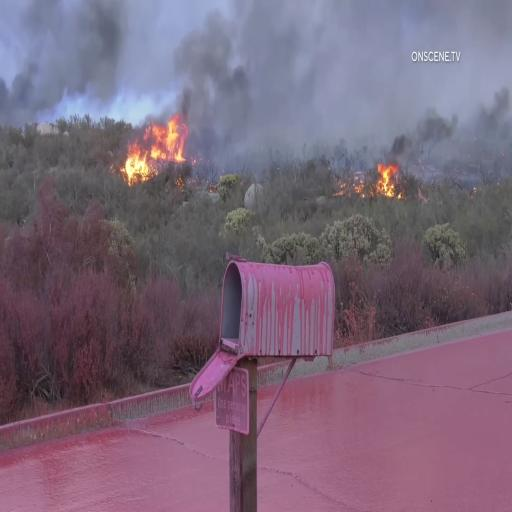fire: (119, 99, 195, 171)
smoke: (183, 5, 314, 110), (0, 0, 84, 116), (402, 102, 497, 167)
